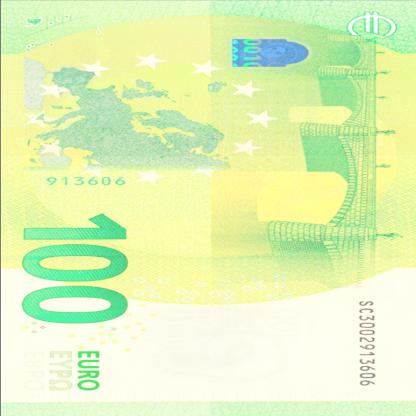euro_banknote: (1, 2, 416, 416)
